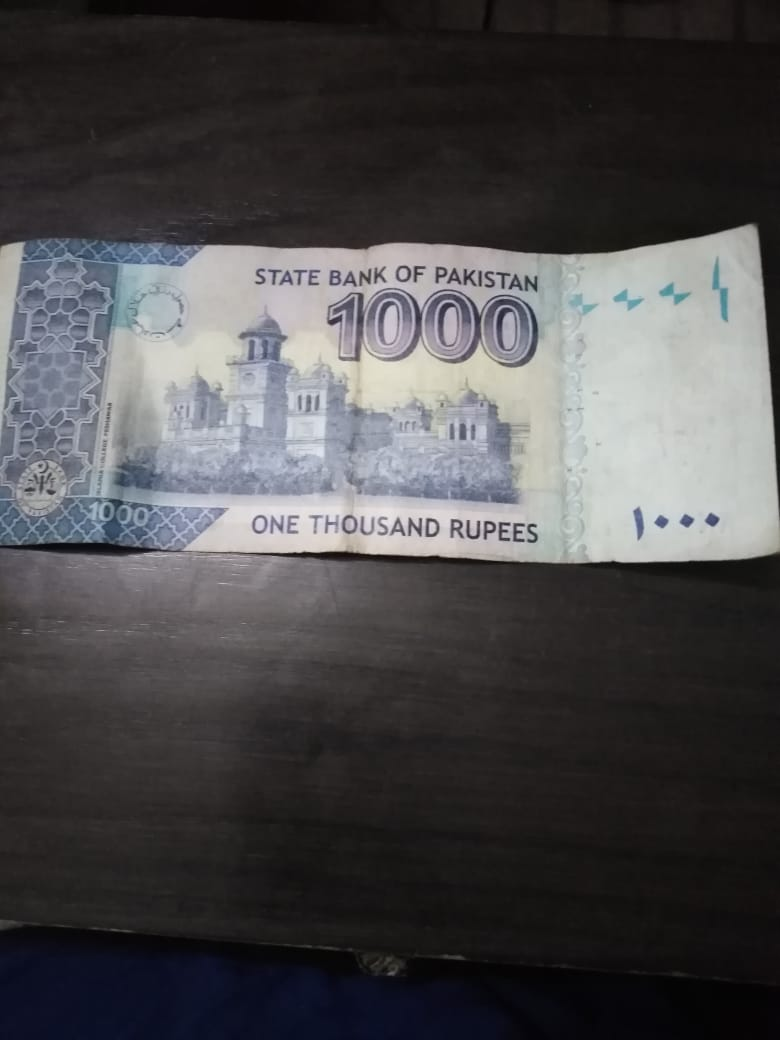1000 rupee: (5, 179, 777, 662)
